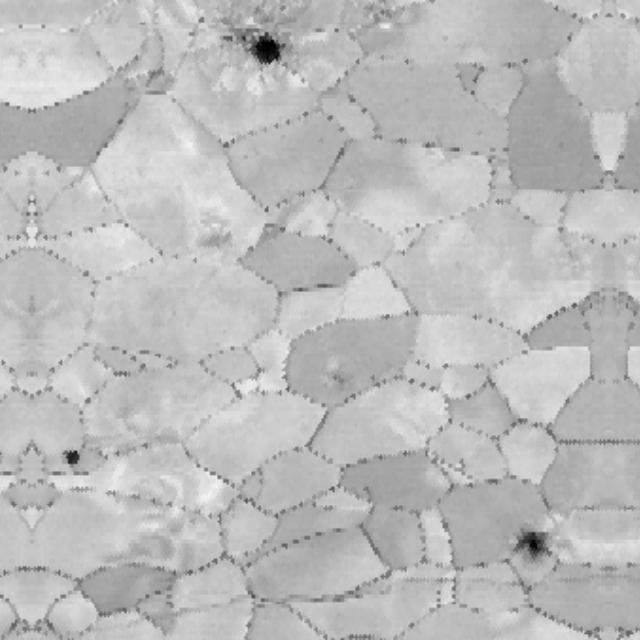good_void: (220, 10, 288, 76), (505, 523, 564, 573), (187, 206, 243, 255), (320, 365, 351, 395), (63, 442, 85, 468), (42, 167, 51, 178), (11, 167, 20, 178)
